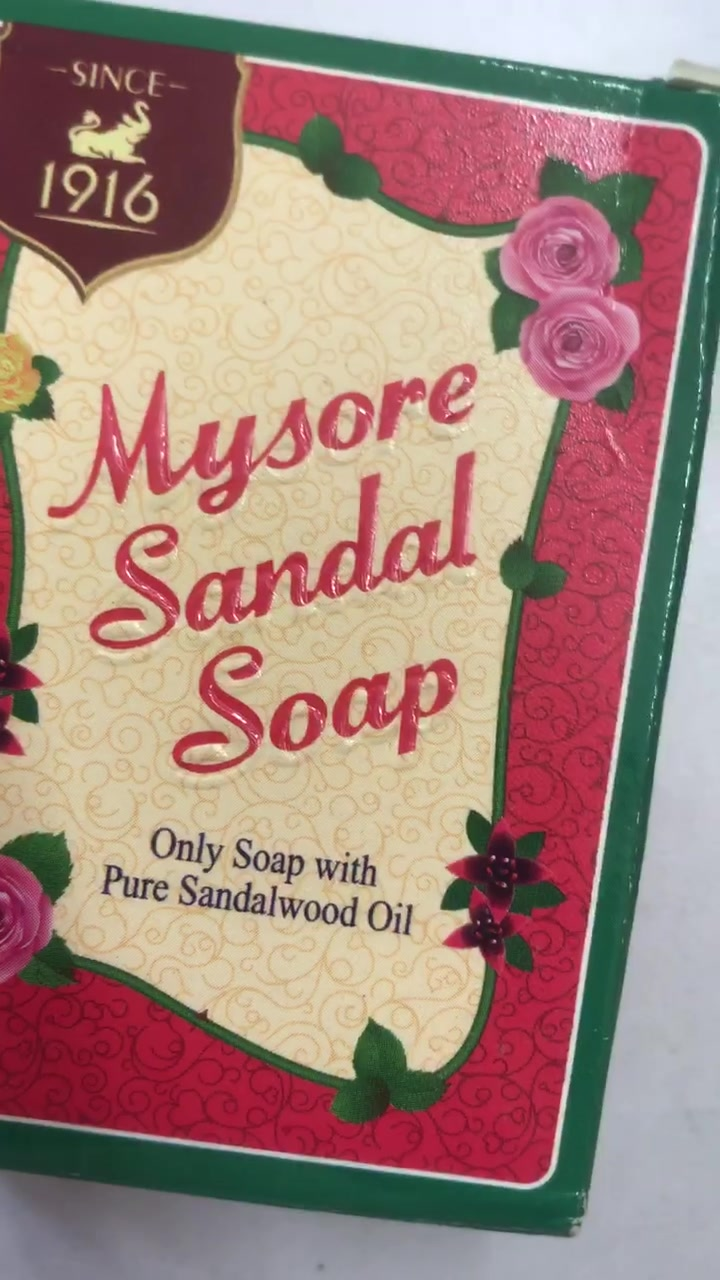mysore sandal soap: (3, 85, 666, 1096)
